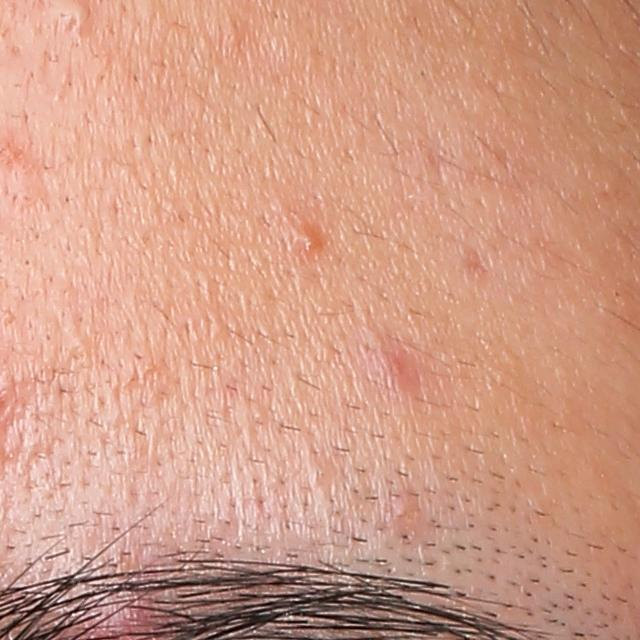papule: (364, 331, 420, 392), (287, 219, 323, 258)
